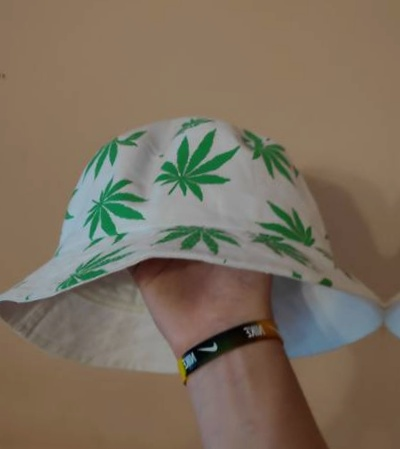Hat: (0, 86, 391, 389), (386, 111, 400, 413)
